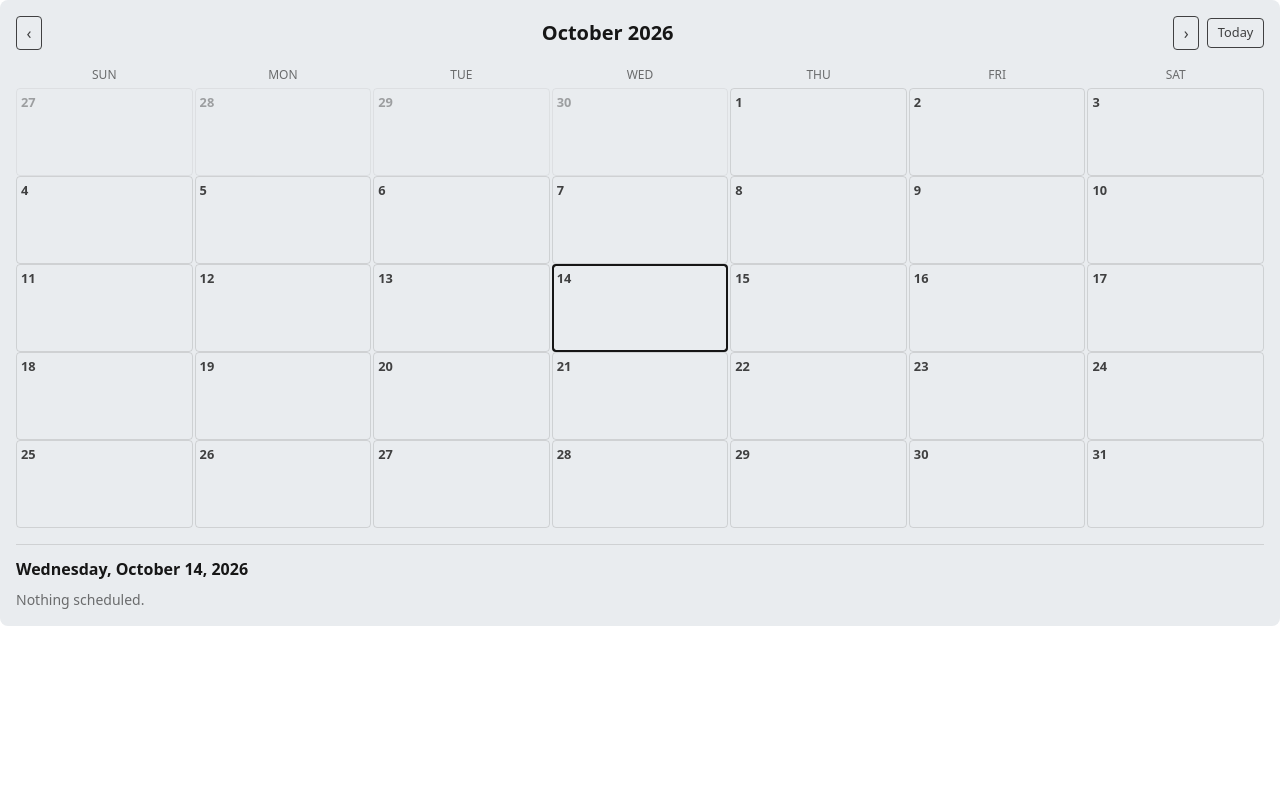
Test: paging › comes back to today
What coordinates should you click on to do the following:
click the button named "Next month"
I would click on:
 (1186, 33)
Its box is [1173,16,1199,50].
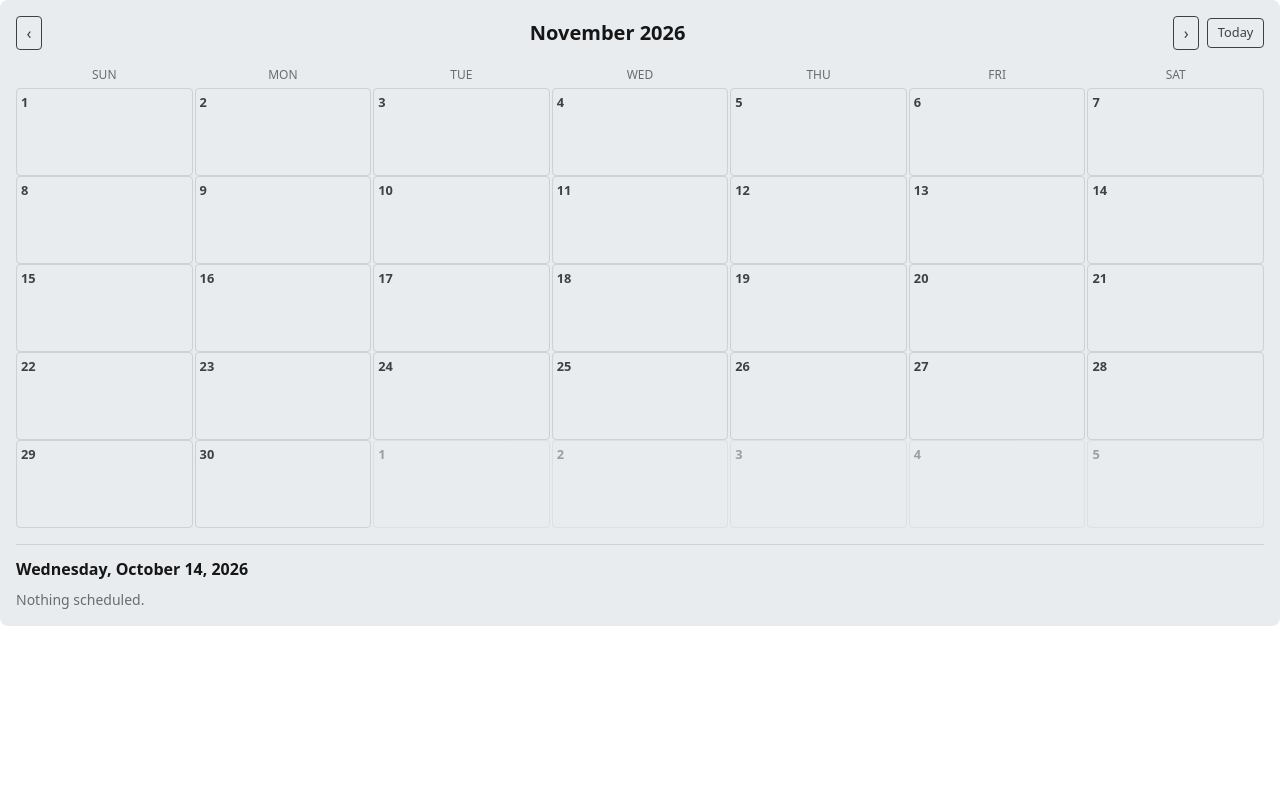
What coordinates should you click on to do the following:
click the button with class "today-btn"
I would click on:
 (1236, 33)
Its box is [1207,18,1264,48].
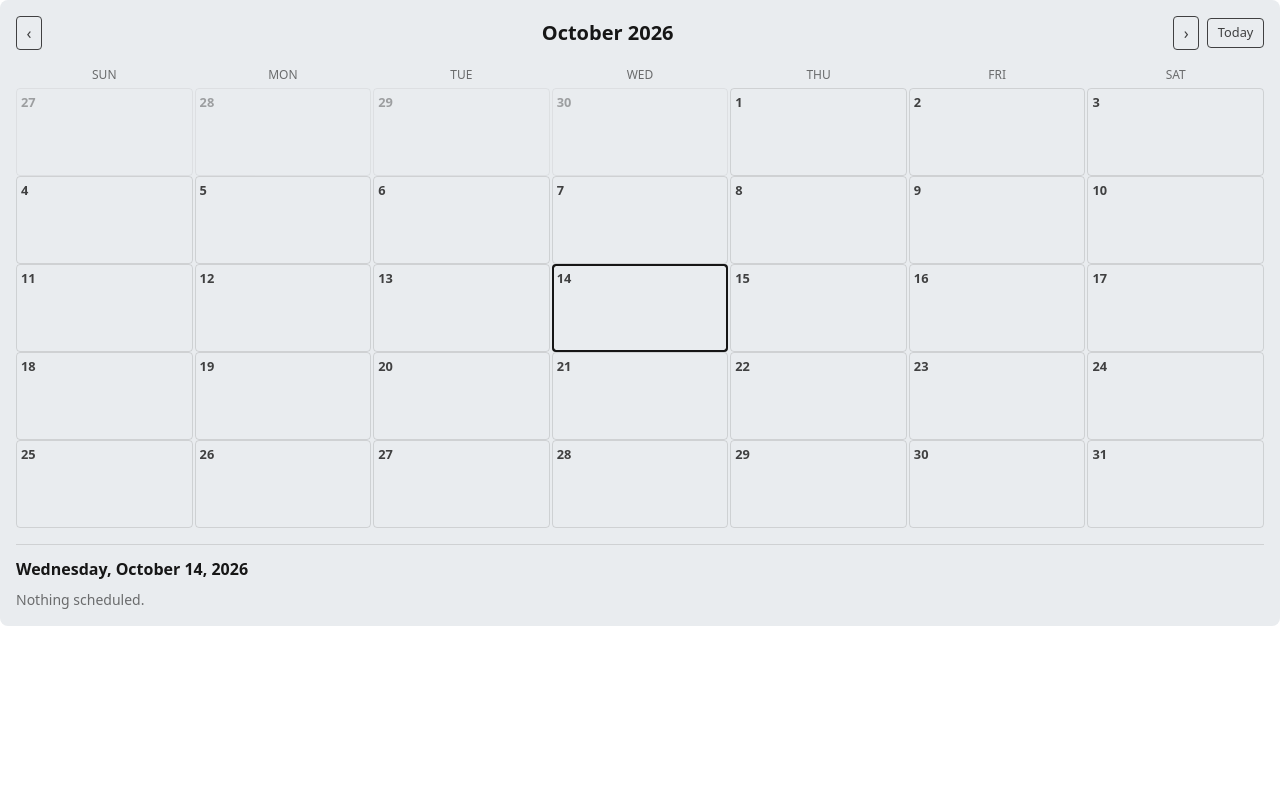
expect the heading with test id "month-title" reads "October 2026": met, box [542,19,674,46]
